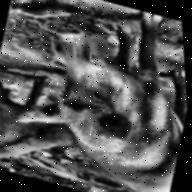boar: (0, 0, 192, 192), (0, 64, 92, 187)
